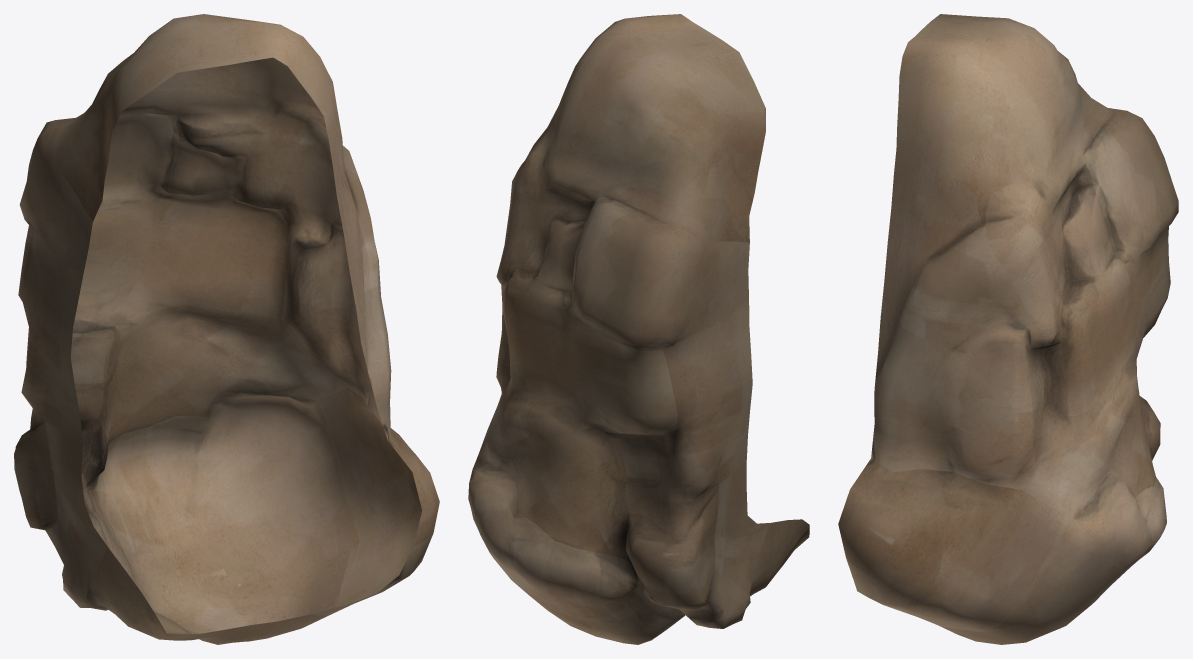
The model's file is props_coalmines_boulder6_huge.glb.
3 views of the same model, side by side, from view 1: azimuth 30°, elevation 25°; view 2: azimuth 150°, elevation 25°; view 3: azimuth 270°, elevation 25° (orthographic). The views are drawn at different scales.
Visible parts, largest first — view 1: models/props_coalmines/boulder6_huge; view 2: models/props_coalmines/boulder6_huge; view 3: models/props_coalmines/boulder6_huge.
Boxes of the visible parts, bbox=[...] form: models/props_coalmines/boulder6_huge: bbox=[14, 14, 439, 644]; models/props_coalmines/boulder6_huge: bbox=[468, 14, 809, 644]; models/props_coalmines/boulder6_huge: bbox=[838, 14, 1178, 644].
Size of the model in its own units: 501 by 995 by 523.
Materials: 1 (1 with a texture image).
